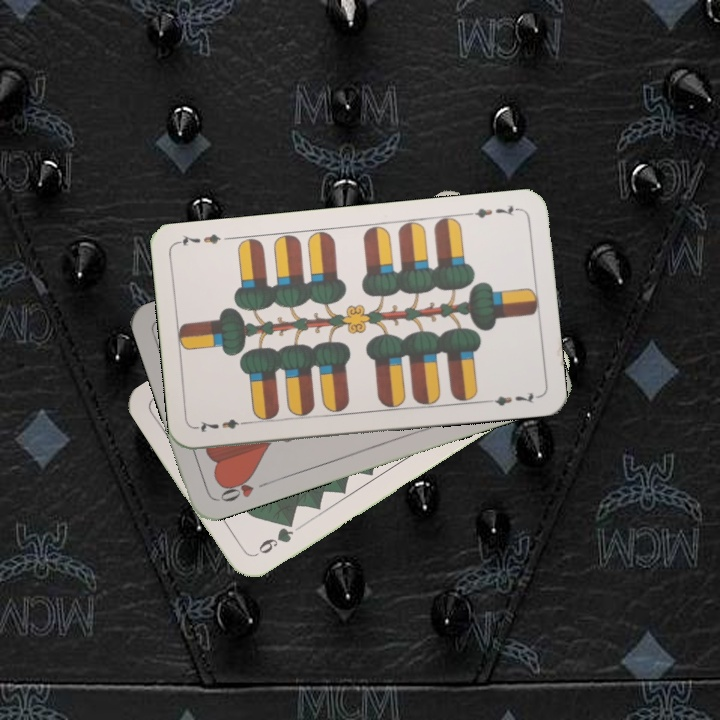E7: (193, 415, 252, 435), (463, 202, 522, 221)
G9: (250, 516, 297, 559)
HO: (214, 471, 272, 505)
